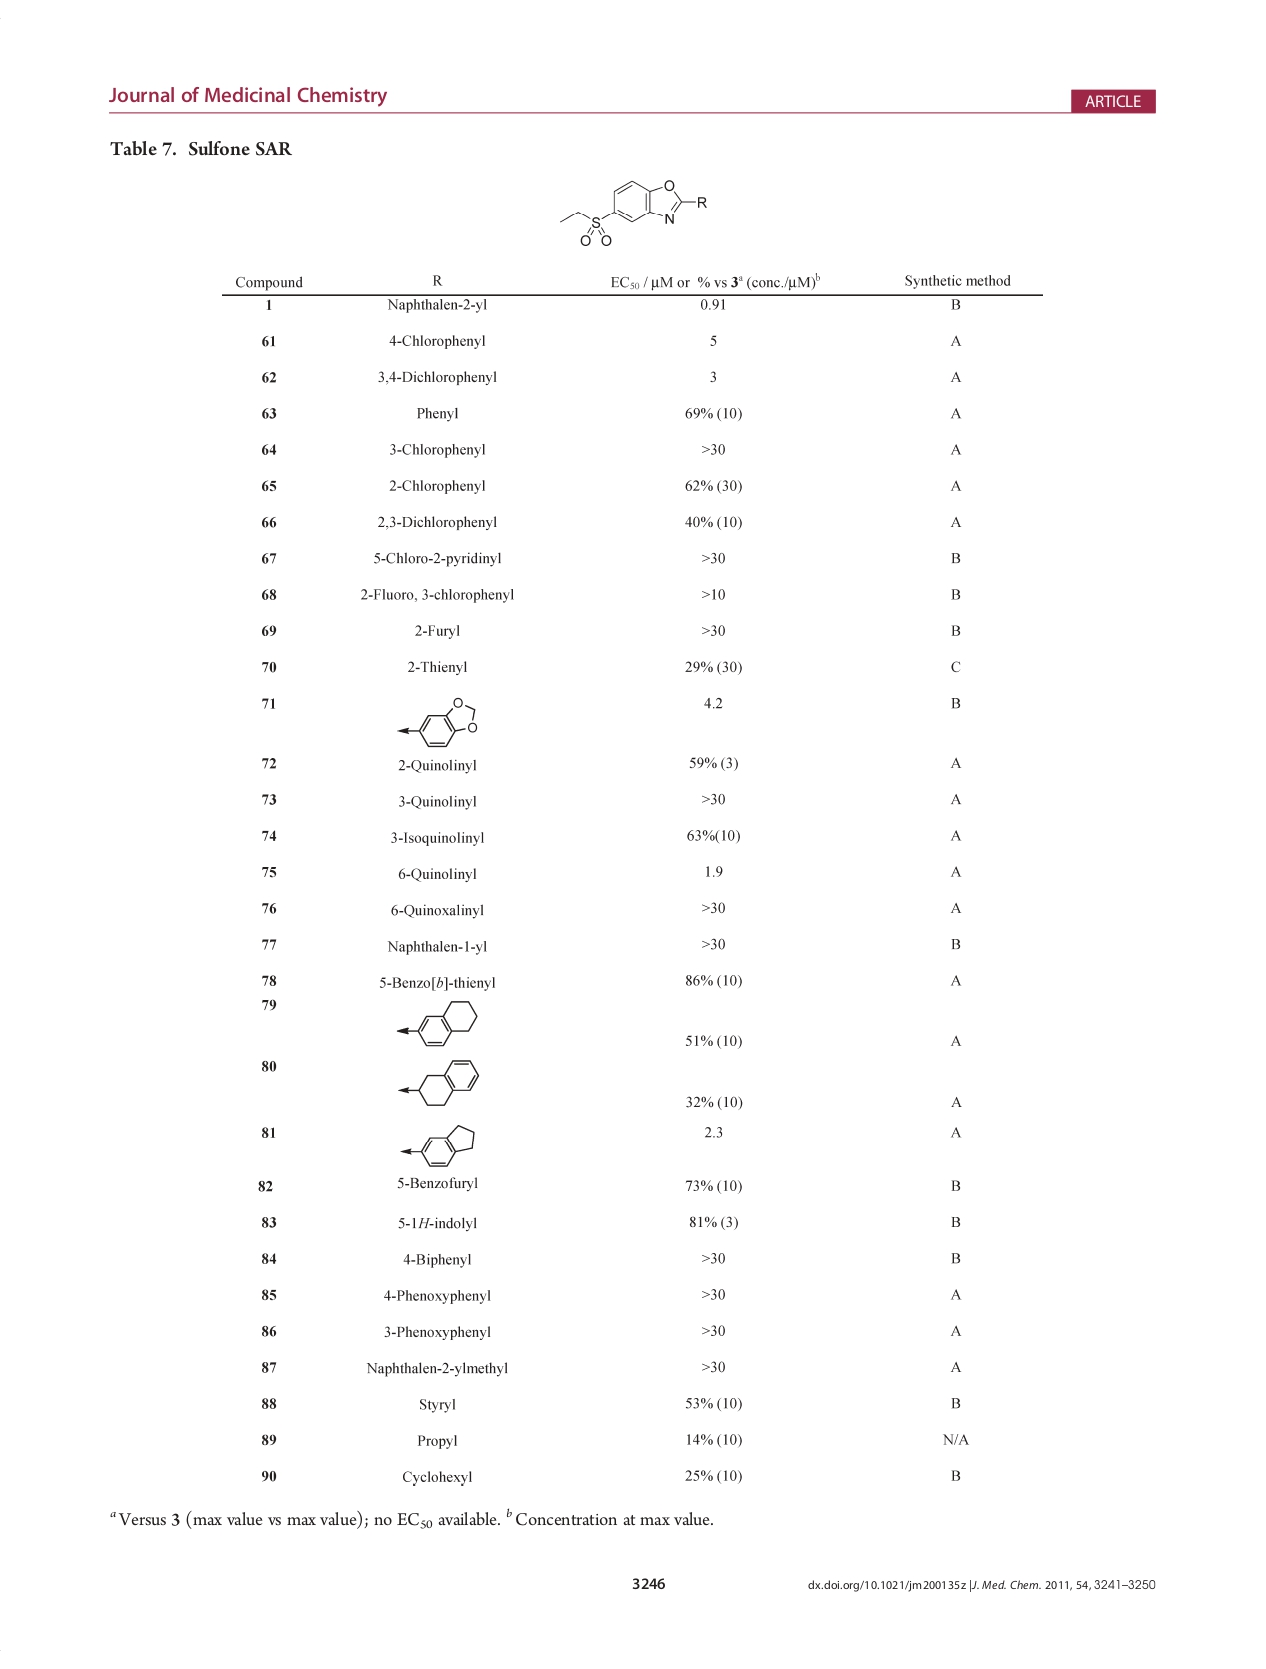exist_molecular: (551, 176, 719, 251), (383, 693, 484, 750), (392, 1057, 484, 1112), (394, 995, 479, 1051), (396, 1122, 477, 1168)
